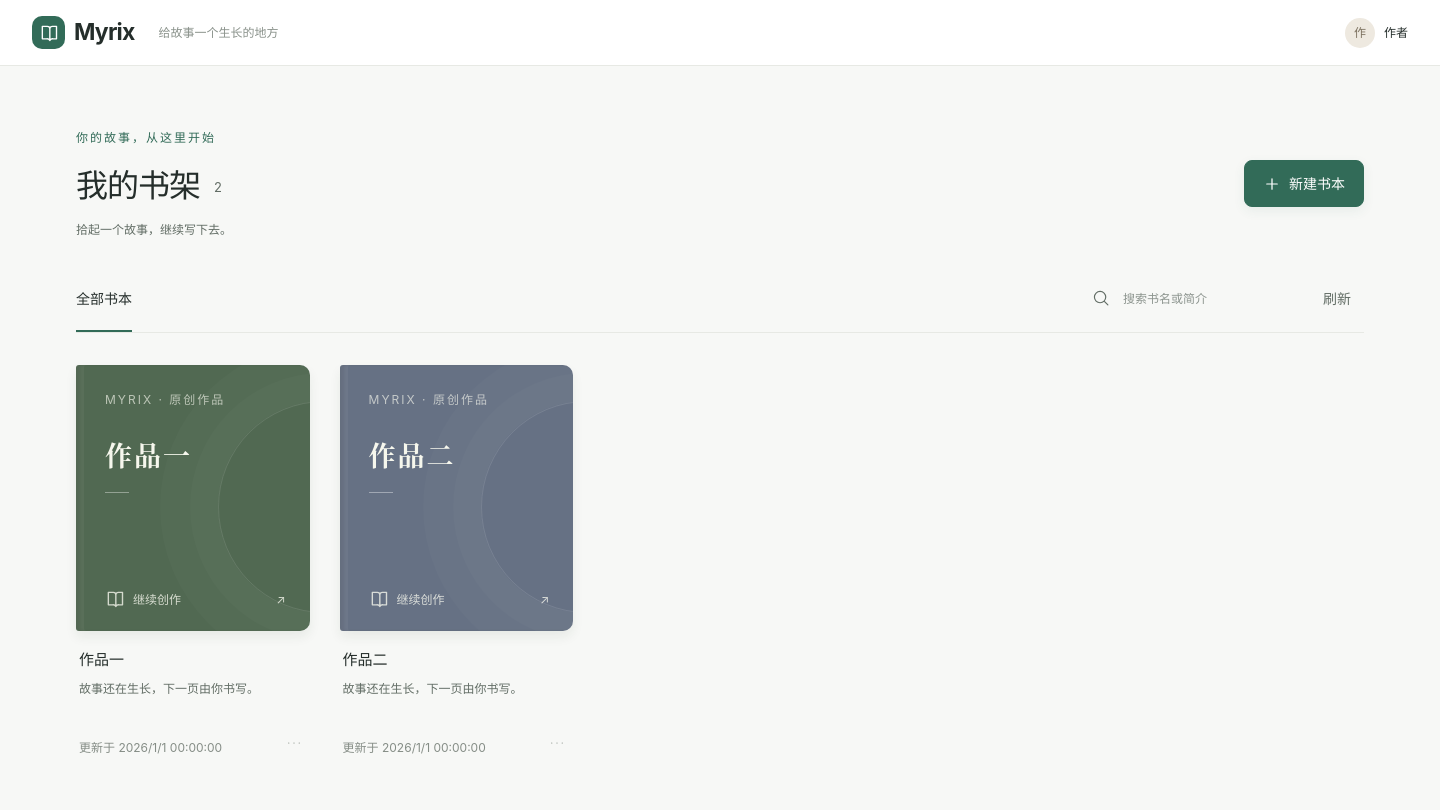
Test: App 登录 → 书架 → 开书 → 返回书架 → 切书 › 没有章节的书留在大纲，不伪造选中
expect the heading "我的书架 2" is shown: met, box left=76, top=160, right=232, bottom=213
Step 1. Click the button with aria-label "打开书本：作品二" → (456, 498), box left=340, top=366, right=573, bottom=632
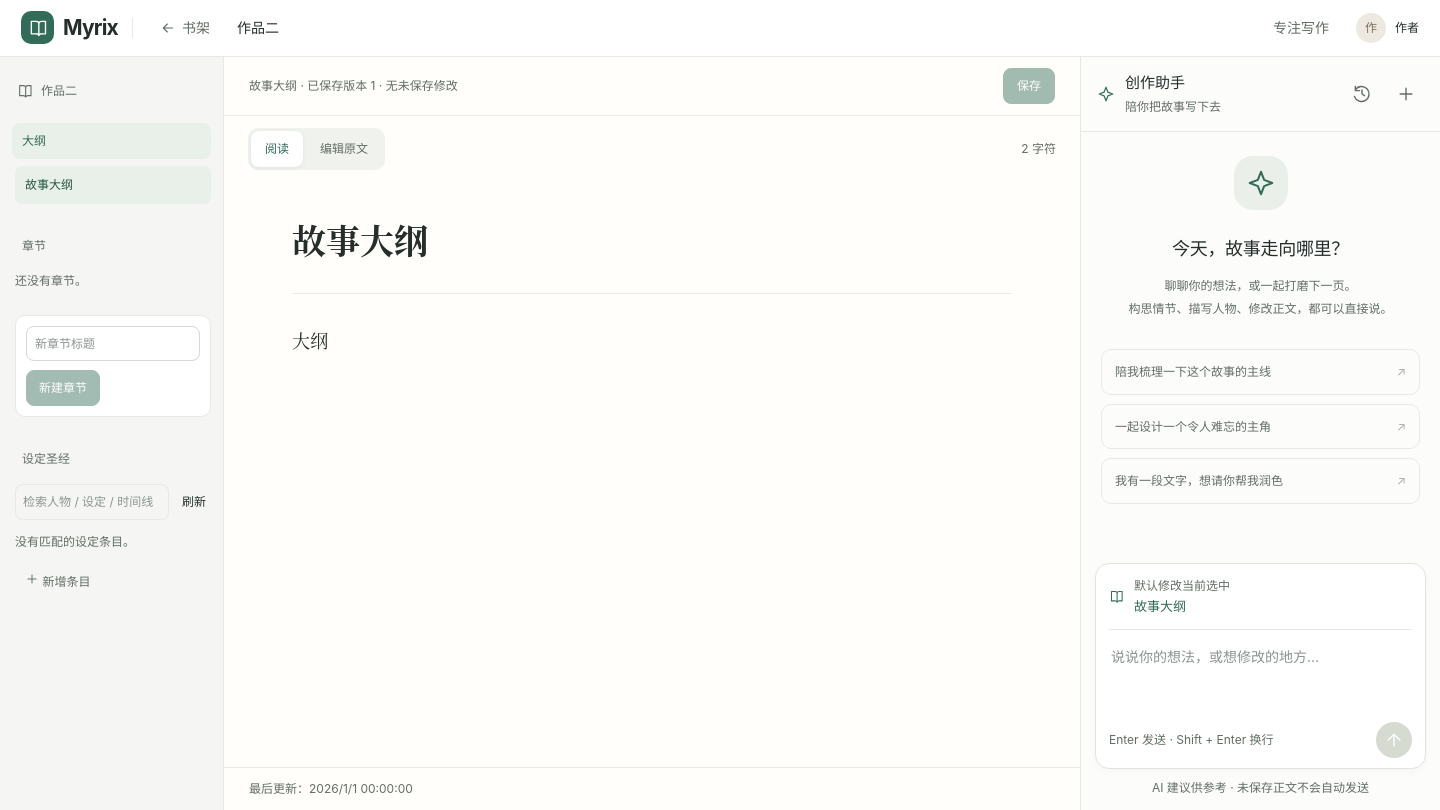
expect the element named "作品内容" is shown: met, box left=224, top=57, right=1080, bottom=809
